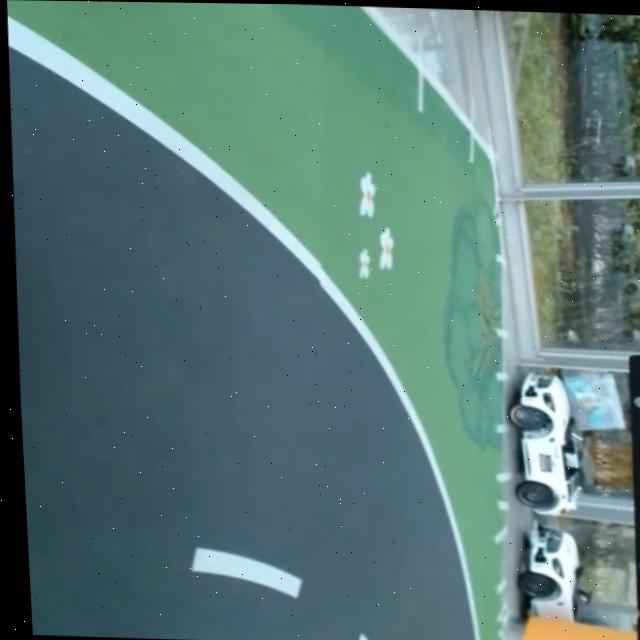traffic-light: (620, 347, 640, 640)
